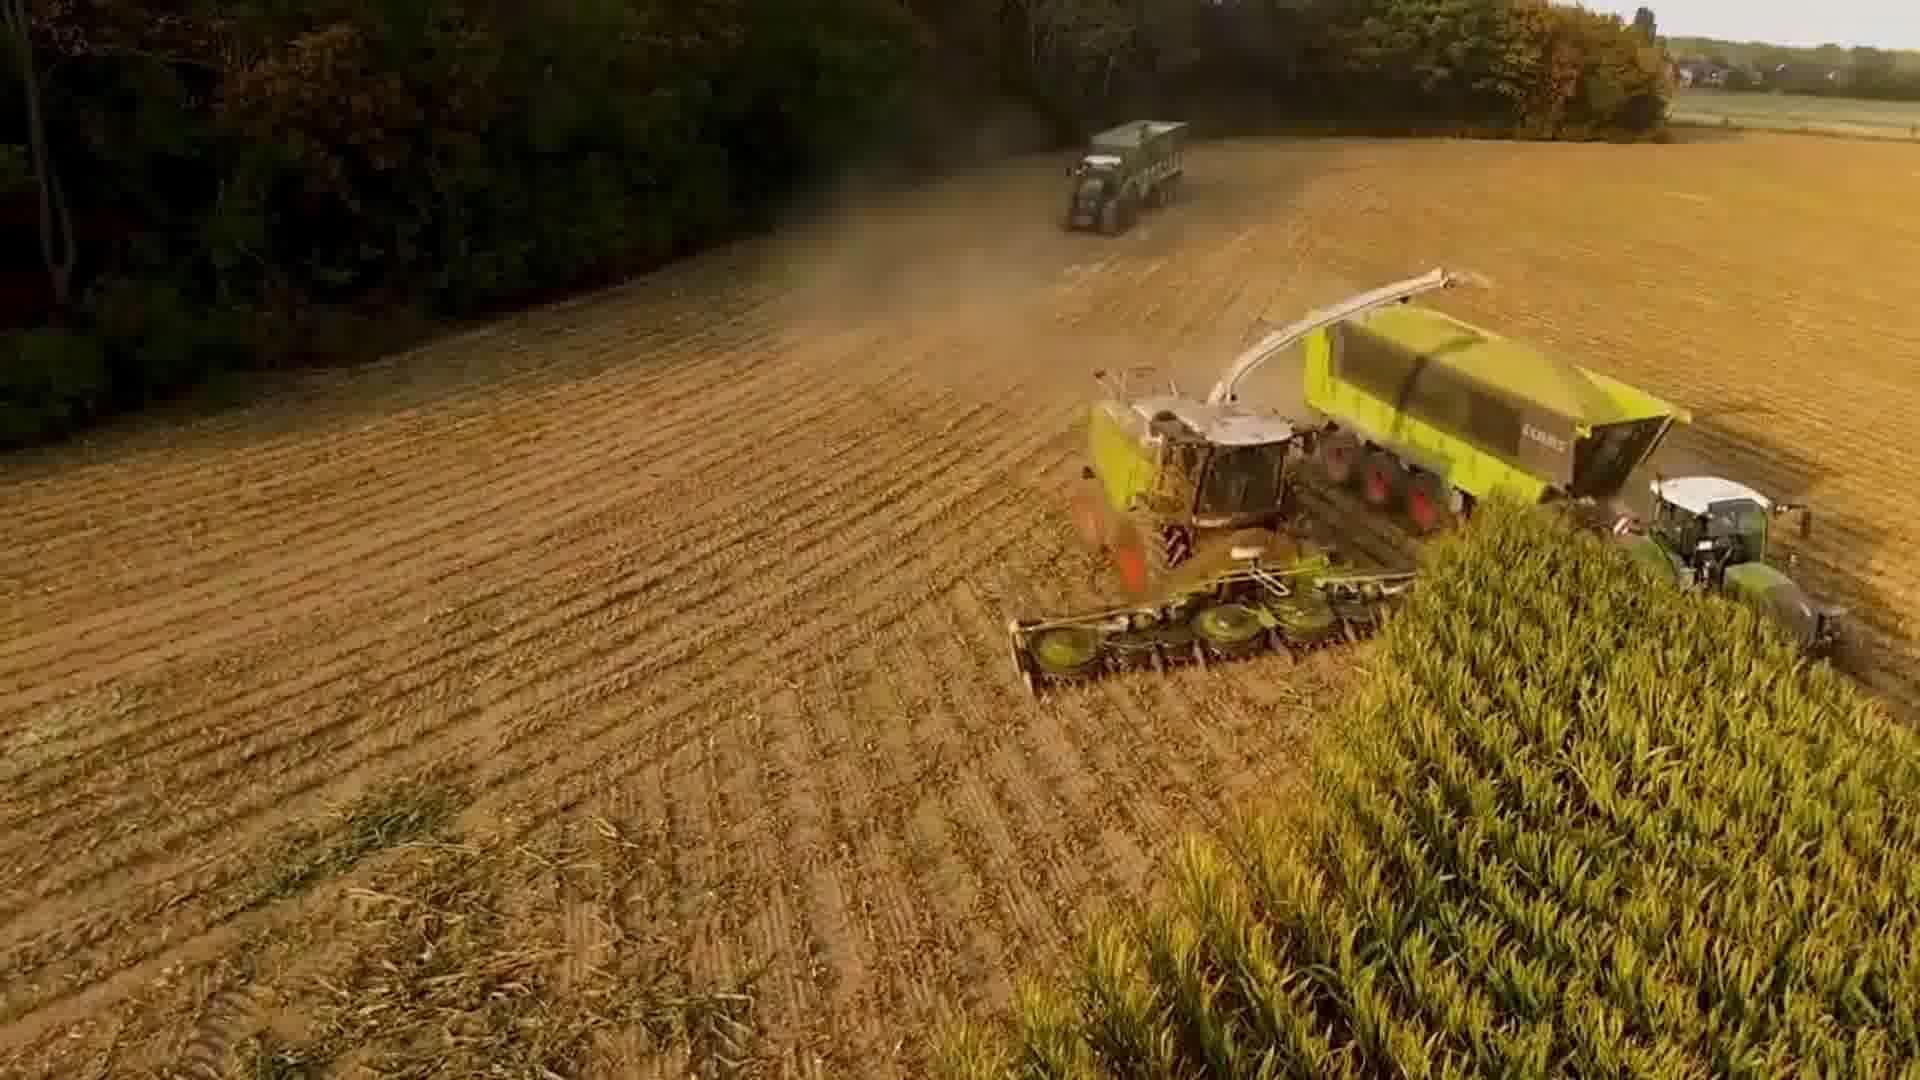combine harvester: (992, 268, 1498, 732)
tractor: (1593, 468, 1863, 686), (1060, 150, 1138, 249)
trailer: (1298, 268, 1680, 560), (1081, 103, 1195, 208)
